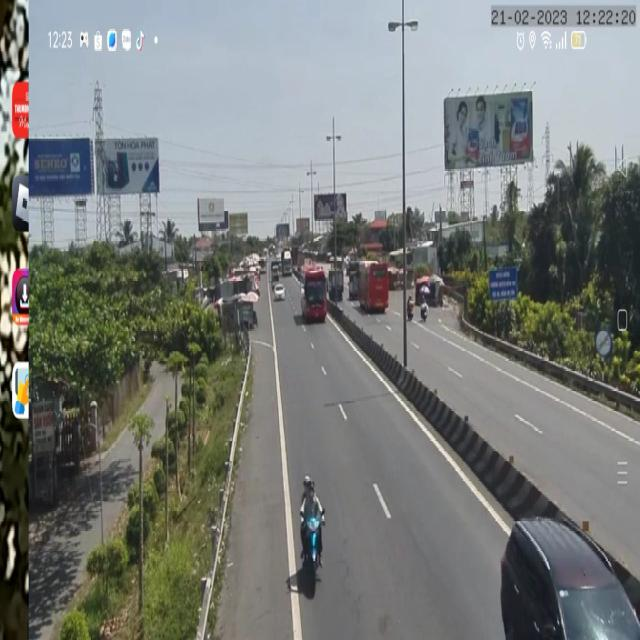bus: (357, 259, 390, 317), (300, 266, 328, 328)
car: (498, 514, 639, 640), (275, 286, 286, 300)
motorbike: (299, 467, 326, 591), (406, 293, 414, 324), (421, 294, 428, 323)
